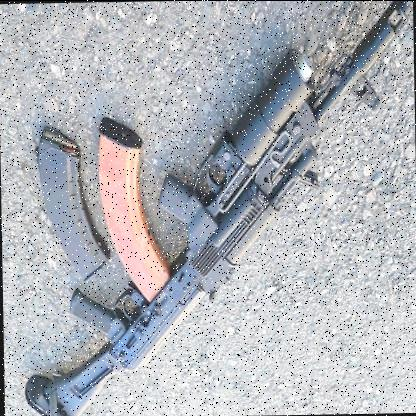rifle: (22, 1, 416, 416)
